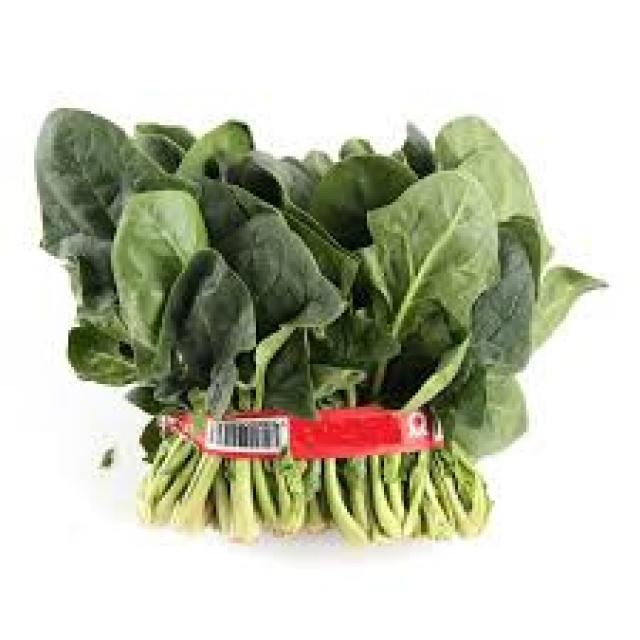spinach: (37, 111, 600, 545)
